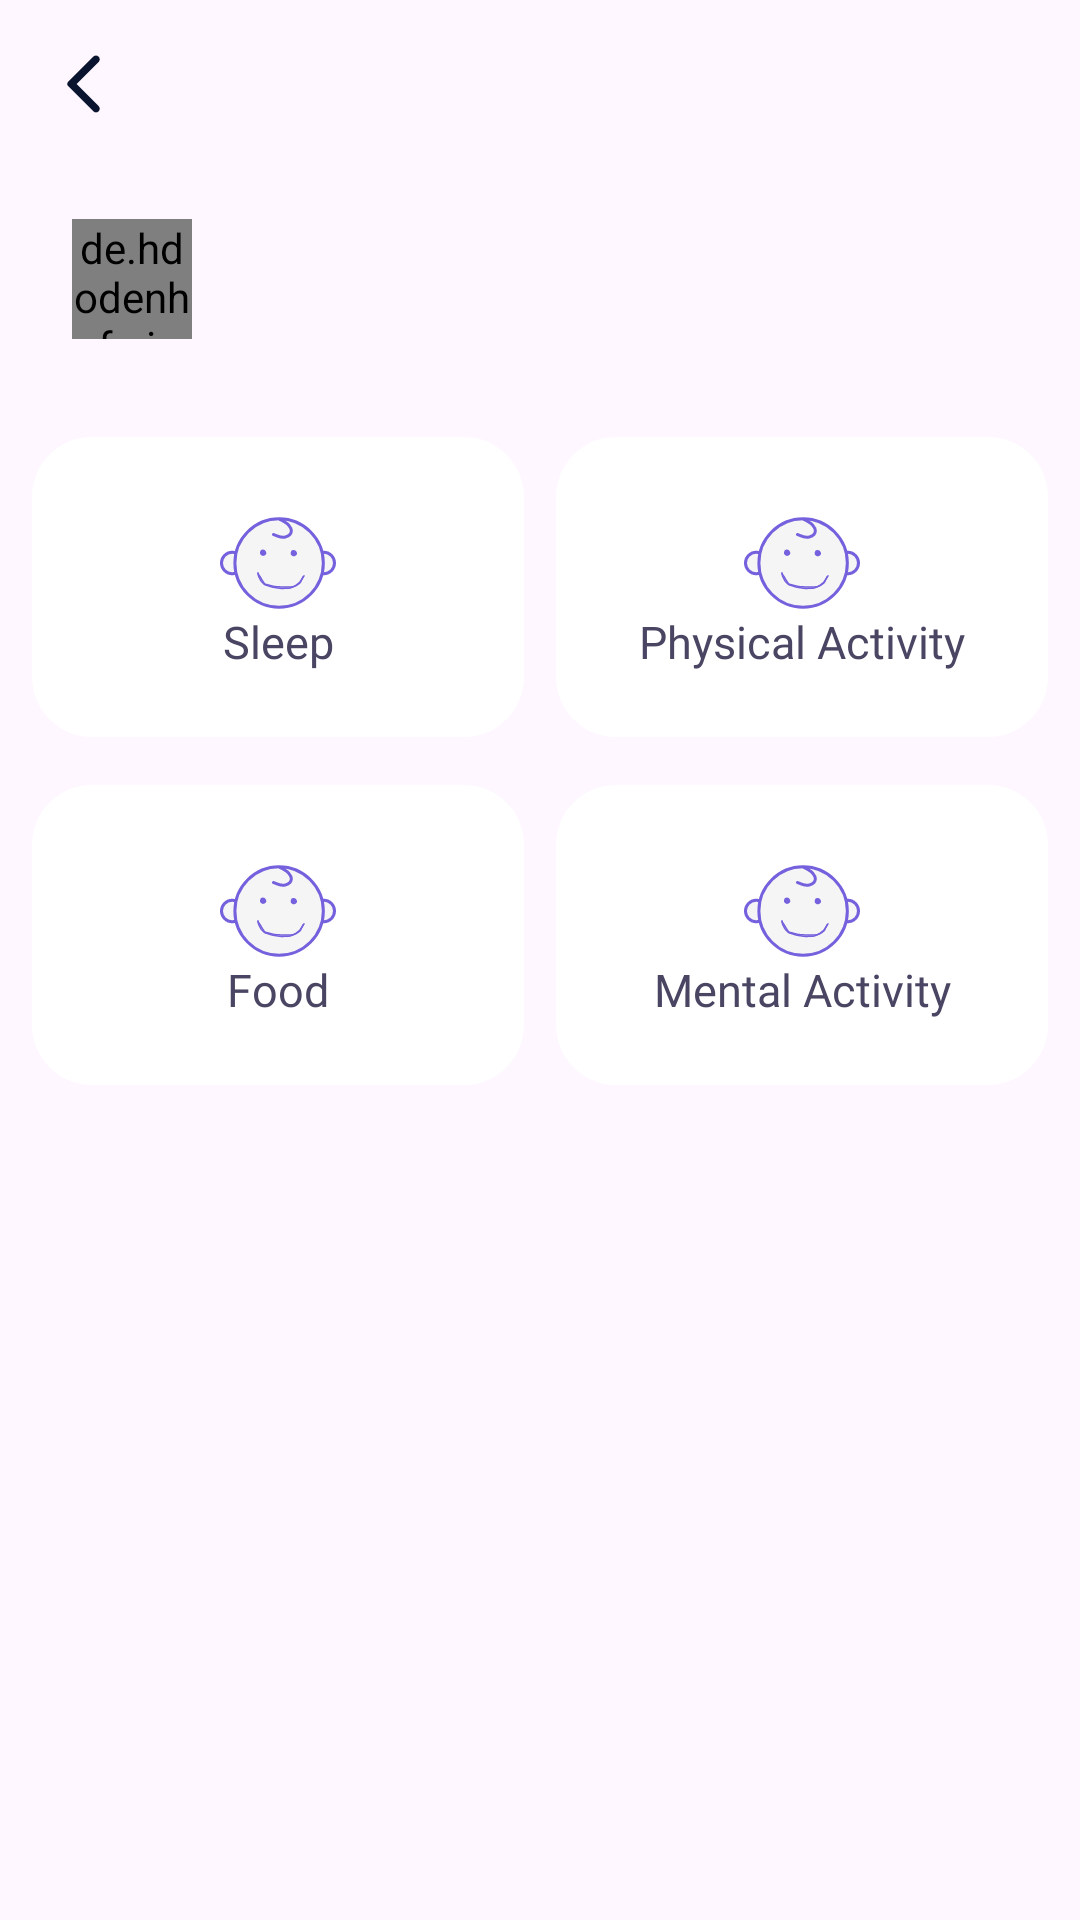

Screen size 1080×1920. Icon name, then its center in pixels as (x=x, y=y):
baby: (x=278, y=563), (x=802, y=563), (x=278, y=911), (x=802, y=911)
back: (x=83, y=84)
